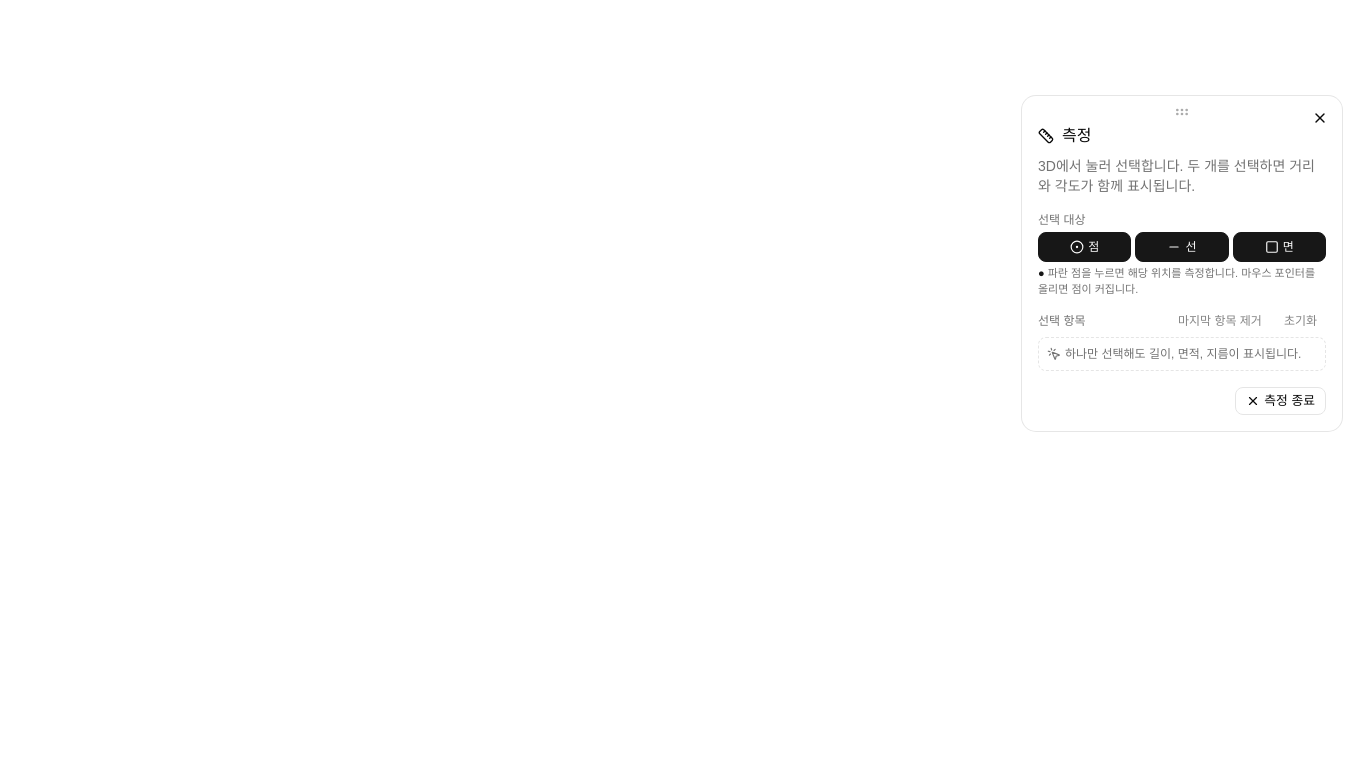
Test: 「점」 을 켜면 3D 에 점이 뜬다고 알려 주고, 끄면 그 안내도 사라진다
Expected: the text "● 파란 점을 누르면 해당 위치를 측정합니다. 마우스 포인터를 올리면 점이 커집니다." is shown, [1038,266,1326,297]
Click the button "점": (1085, 247) [1038,232,1131,262]
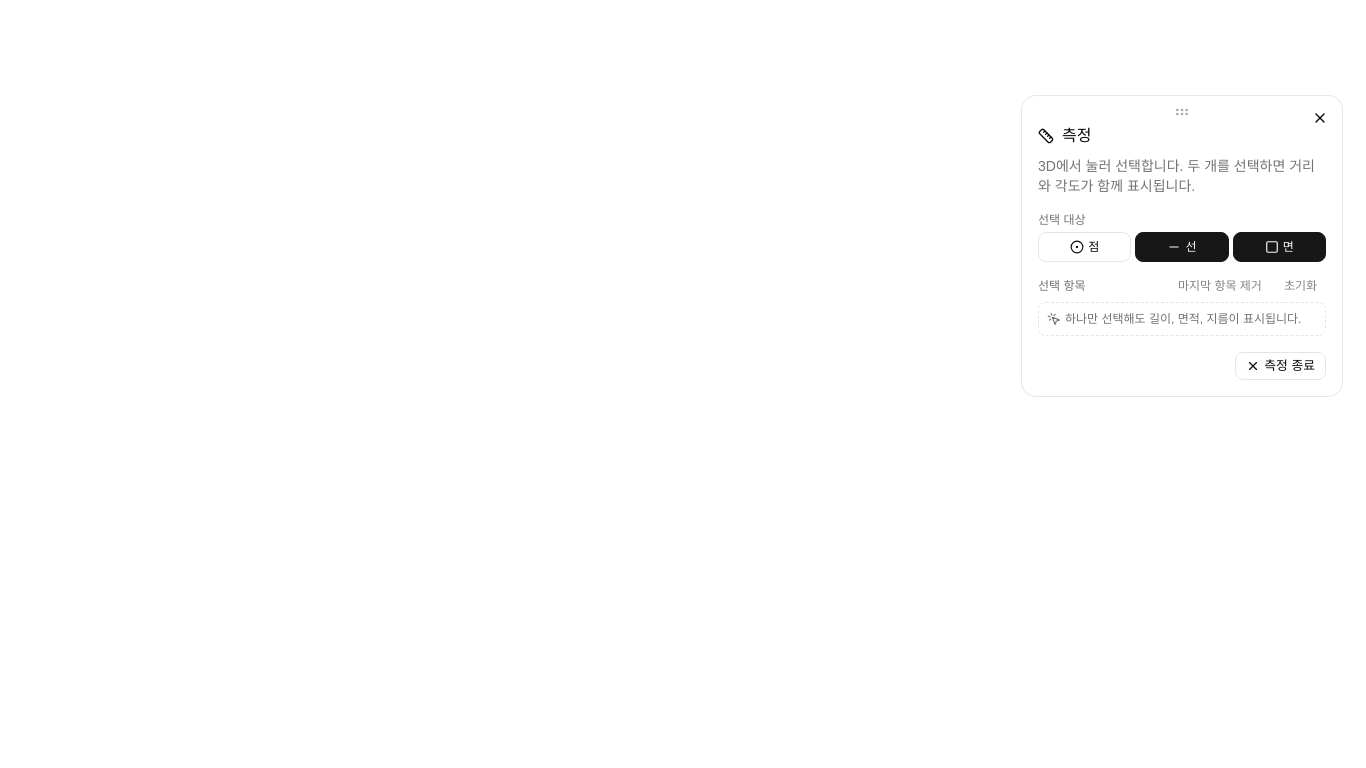
Result: the text "파란 점을 누르면" is gone
